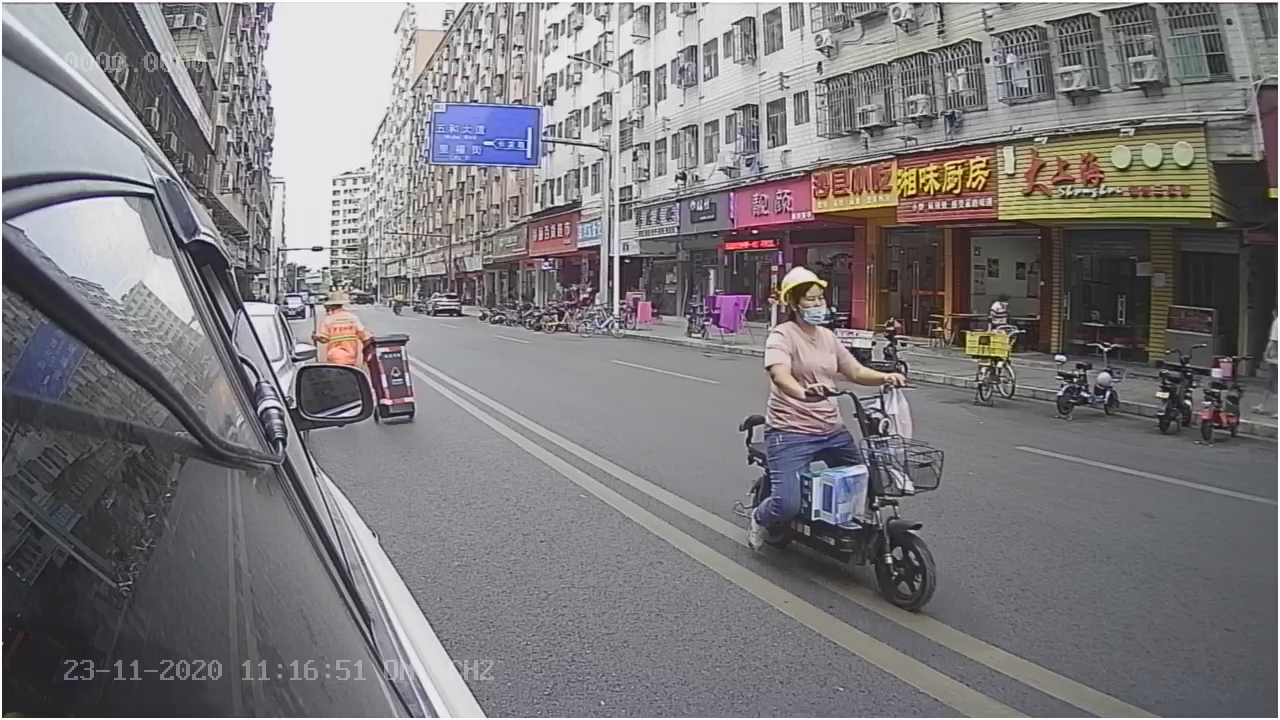person: (763, 262, 909, 386)
